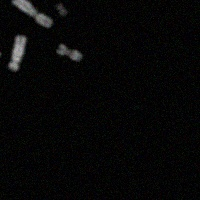chromosome: (11, 0, 52, 28), (7, 35, 26, 70), (55, 42, 82, 61), (56, 3, 67, 18)
